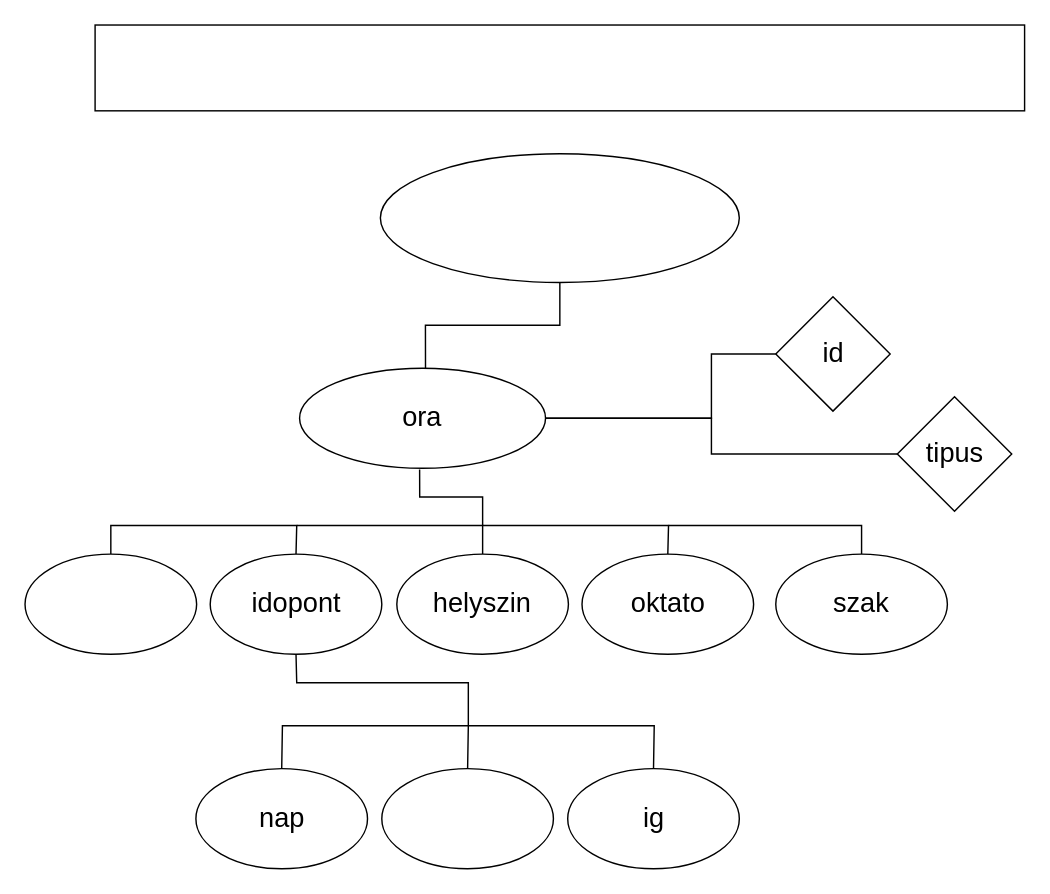
This 1050x894 diagram has some shape labels left out. Each missing label, with the centre of its shape:
JB3BMA_orarend: point 559,217
kurzus: point 110,603
tol: point 466,818
Webkönyvtárak - THE_00751_L_ 3_G: point 559,67
